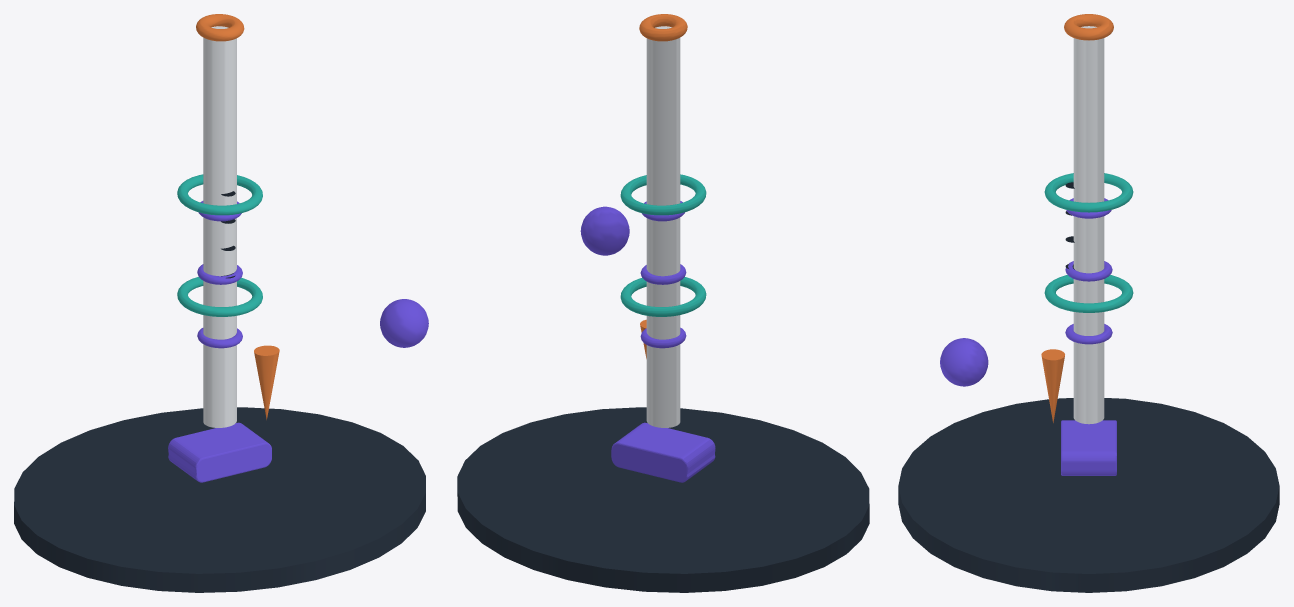
The model's file is 0604_考古图鉴_贾湖骨笛.glb.
3 renders of one model, left to right at view 1: azimuth 30°, elevation 25°; view 2: azimuth 150°, elevation 25°; view 3: azimuth 270°, elevation 25°, orthographic.
Visible parts, largest first — view 1: card_0604; view 2: card_0604; view 3: card_0604.
Part boxes in pixels (x1=…): card_0604: x1=14, y1=14, x2=428, y2=592; card_0604: x1=457, y1=14, x2=869, y2=592; card_0604: x1=898, y1=14, x2=1279, y2=592.
Size of the model in its own units: 0.7866 by 1 by 0.7157.
